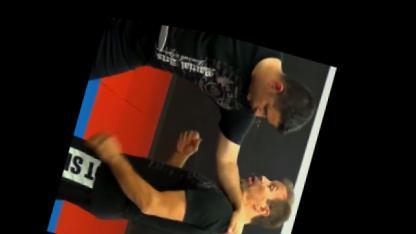knife: (145, 18, 174, 52)
